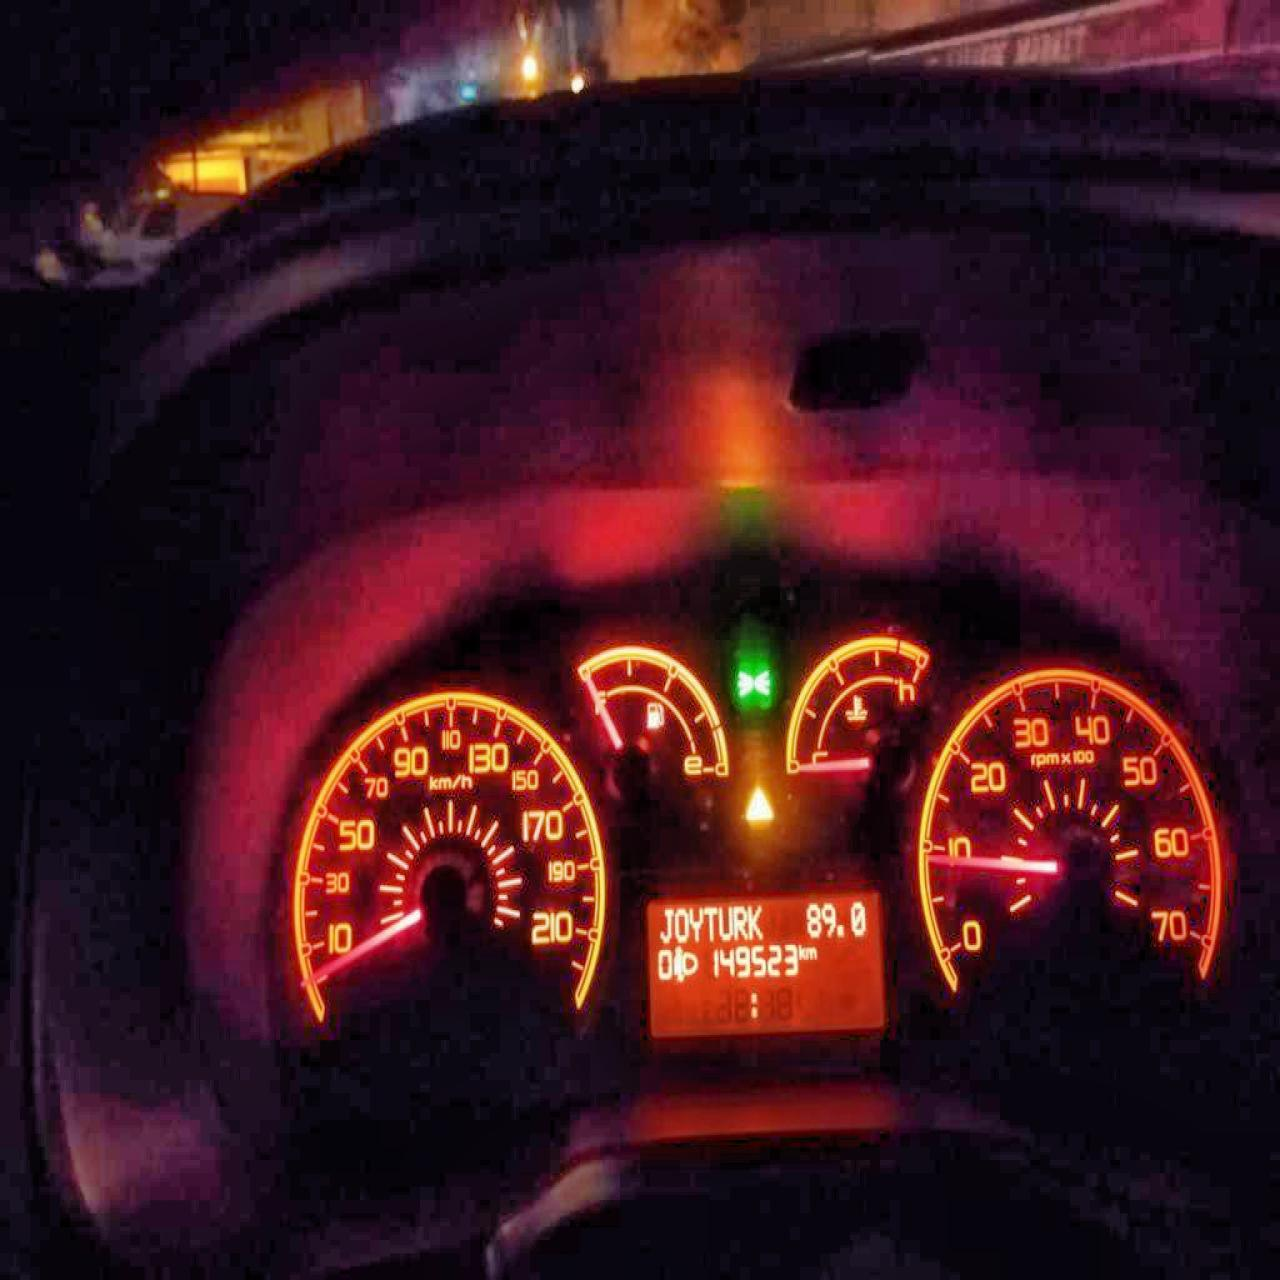-: (837, 921, 843, 937)
0: (849, 900, 865, 937), (673, 907, 688, 944), (656, 947, 672, 980)
1: (712, 947, 717, 979)
2: (765, 944, 779, 975)
3: (783, 941, 797, 975)
4: (717, 946, 734, 976)
5: (750, 944, 765, 976)
8: (805, 901, 821, 937)
9: (821, 901, 835, 937), (735, 945, 750, 976)
X: (716, 904, 733, 940), (733, 904, 748, 940), (748, 904, 763, 940), (658, 906, 673, 941), (702, 905, 716, 940), (688, 906, 702, 941), (749, 989, 757, 1019), (805, 945, 816, 960), (796, 944, 805, 960)
odometer: (641, 887, 890, 1039)
